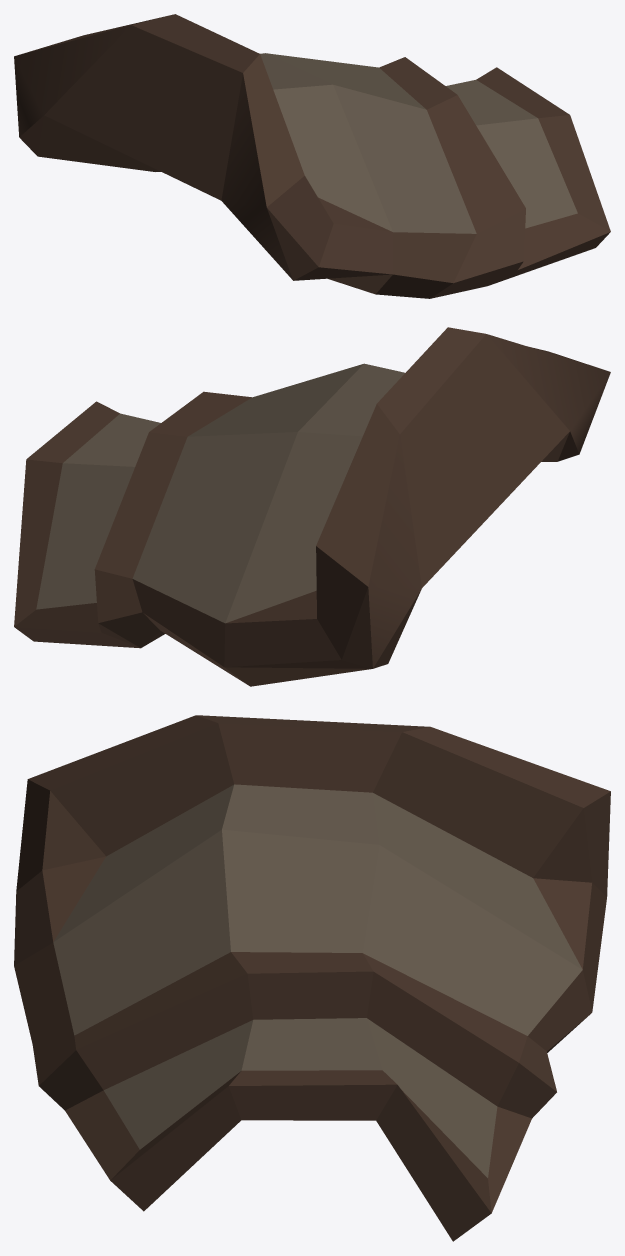
The model's file is Chr_ShoulderAttachLeft_15_Static.fbx.
3 views of the same model, one above another, from view 1: azimuth 30°, elevation 25°; view 2: azimuth 150°, elevation 25°; view 3: azimuth 270°, elevation 25° (orthographic). The views are drawn at different scales.
Visible parts, largest first — view 1: Chr_ShoulderAttachLeft_15_Static; view 2: Chr_ShoulderAttachLeft_15_Static; view 3: Chr_ShoulderAttachLeft_15_Static.
Part boxes in pixels (x1,y1,x2,y2): Chr_ShoulderAttachLeft_15_Static: [14, 14, 610, 298]; Chr_ShoulderAttachLeft_15_Static: [14, 327, 610, 686]; Chr_ShoulderAttachLeft_15_Static: [14, 715, 610, 1241].
Bounding box in the file's own units: 0.2744 × 0.1811 × 0.28.
